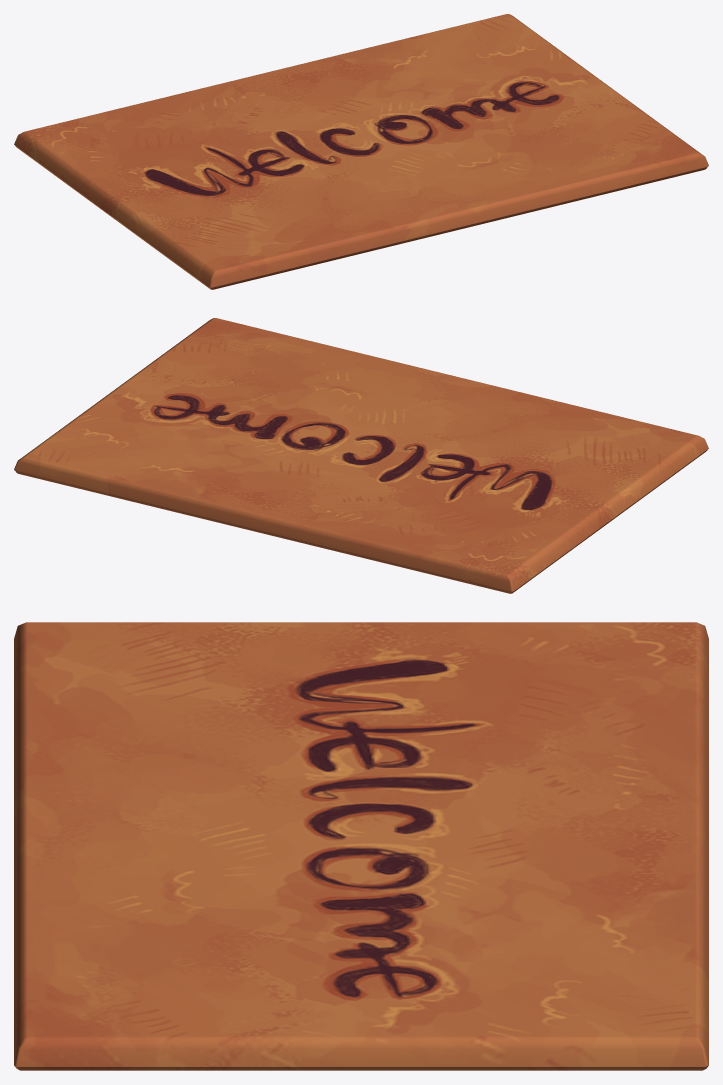
File: WelcomeMat.fbx
The picture shows the model from 3 angles, top to bottom: view 1: azimuth 30°, elevation 25°; view 2: azimuth 150°, elevation 25°; view 3: azimuth 270°, elevation 25°; orthographic projection. The views are drawn at different scales.
Visible parts, largest first — view 1: WelcomeMat; view 2: WelcomeMat; view 3: WelcomeMat.
Boxes of the visible parts, box(x1,y1,x2,y2) form: WelcomeMat: box(14, 14, 708, 289); WelcomeMat: box(14, 318, 708, 593); WelcomeMat: box(14, 622, 708, 1070).
Bounding box in the file's own units: 176 × 5.77 × 120.
